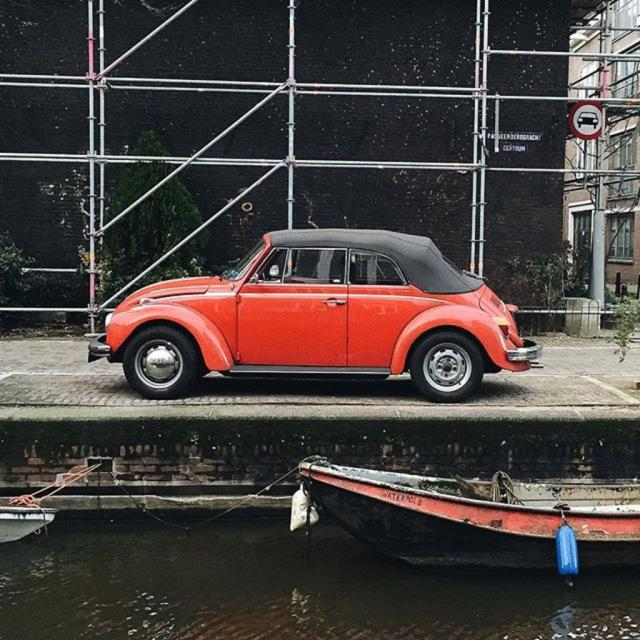car: (93, 222, 518, 413)
